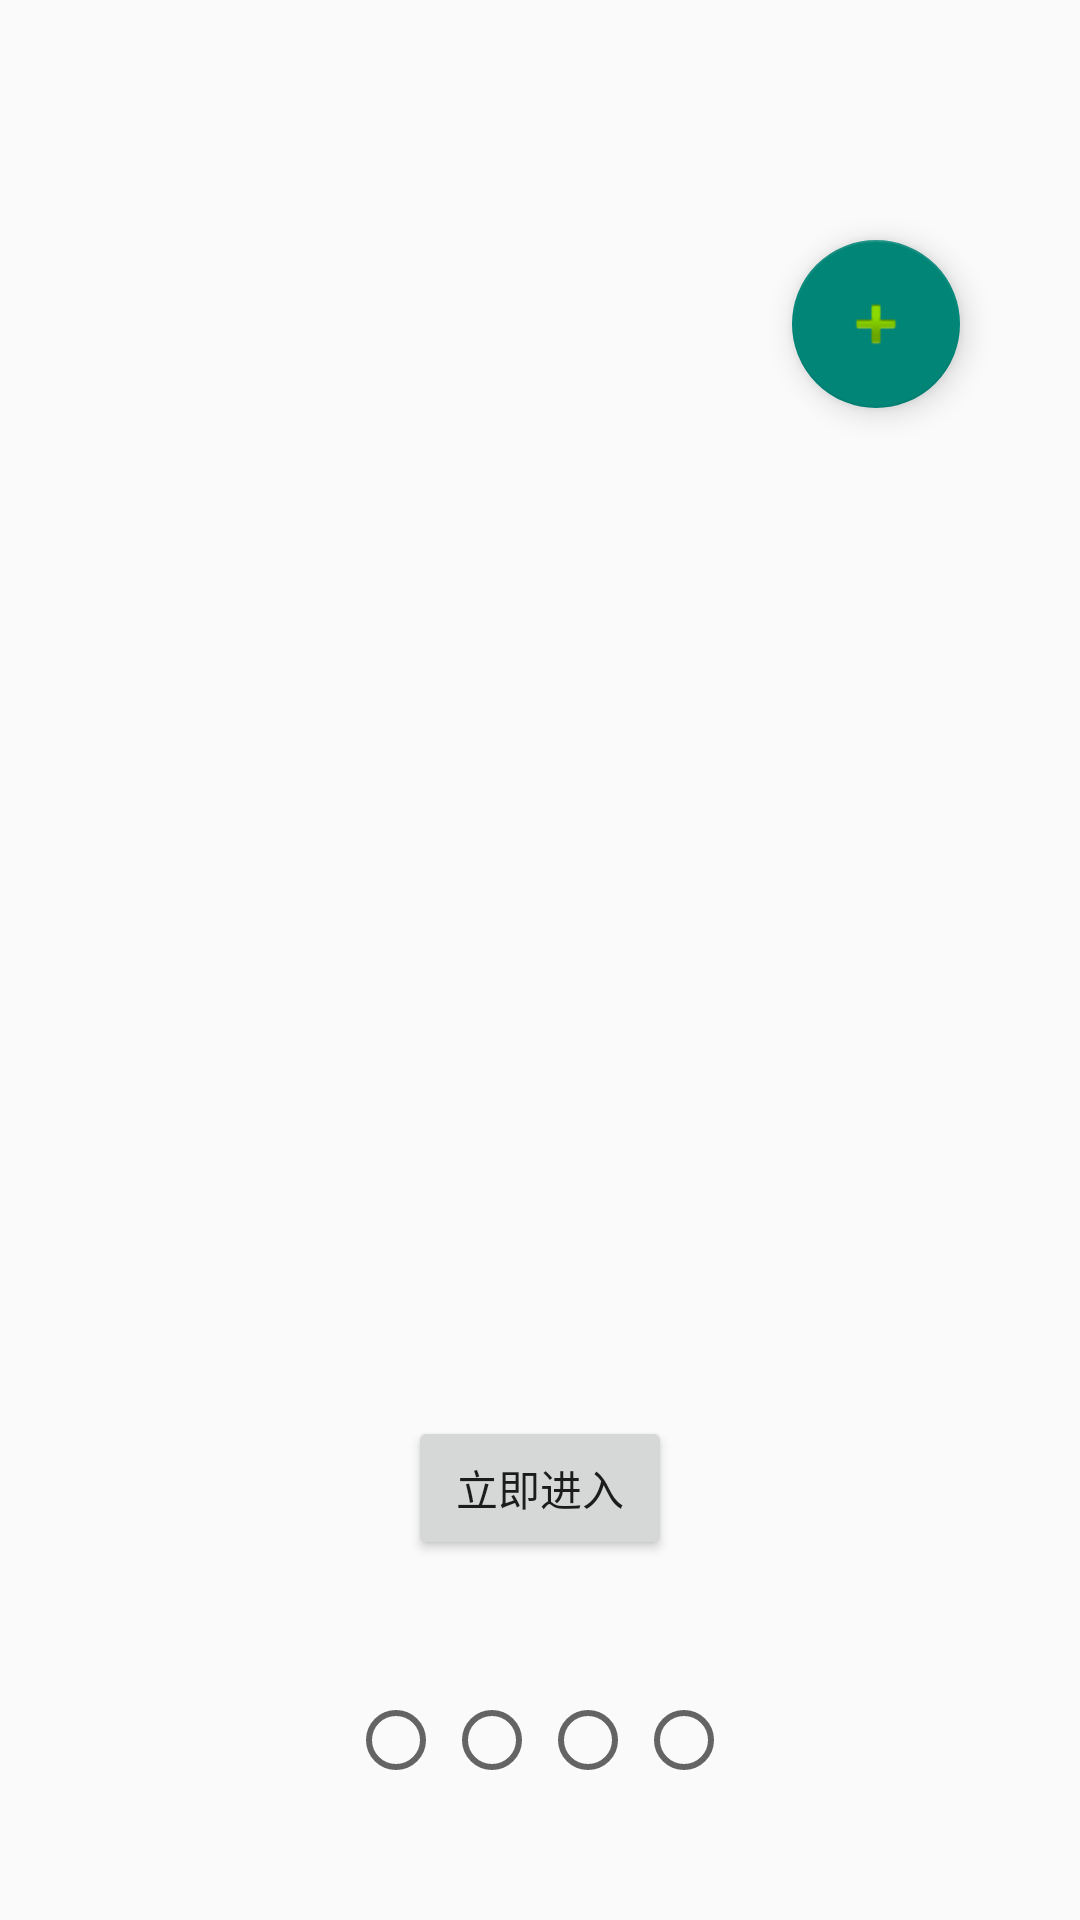

Icons on this 1080 × 1920 Android screen, each with the point to tap as (x=x, y=y):
add: (x=876, y=324)
